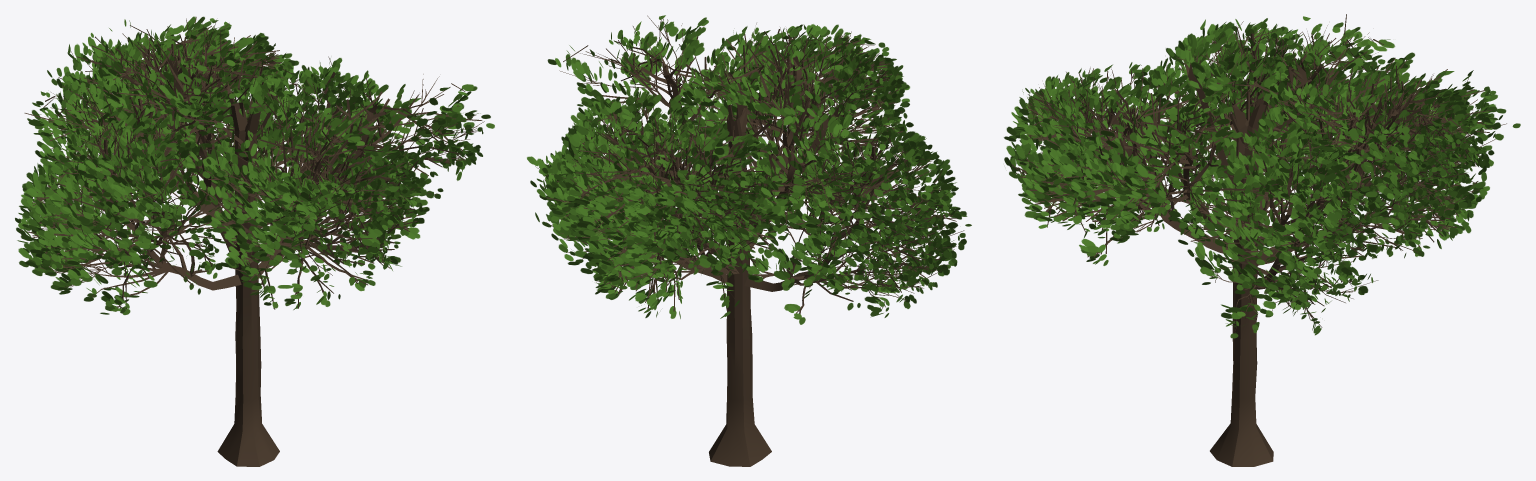
The picture shows the model from 3 angles, left to right: view 1: azimuth 30°, elevation 25°; view 2: azimuth 150°, elevation 25°; view 3: azimuth 270°, elevation 25°; orthographic projection. The views are drawn at different scales.
Visible parts, largest first — view 1: oak 01.001_trunk_Mat.001_0.159; view 2: oak 01.001_trunk_Mat.001_0.159; view 3: oak 01.001_trunk_Mat.001_0.159.
Part boxes in pixels (x1,y1,x2,y2): oak 01.001_trunk_Mat.001_0.159: [15, 16, 494, 466]; oak 01.001_trunk_Mat.001_0.159: [527, 15, 971, 466]; oak 01.001_trunk_Mat.001_0.159: [1004, 14, 1520, 466].
Bounding box in the file's own units: 6.5 × 5.22 × 6.56.
Materials: 2 (1 with a texture image).
